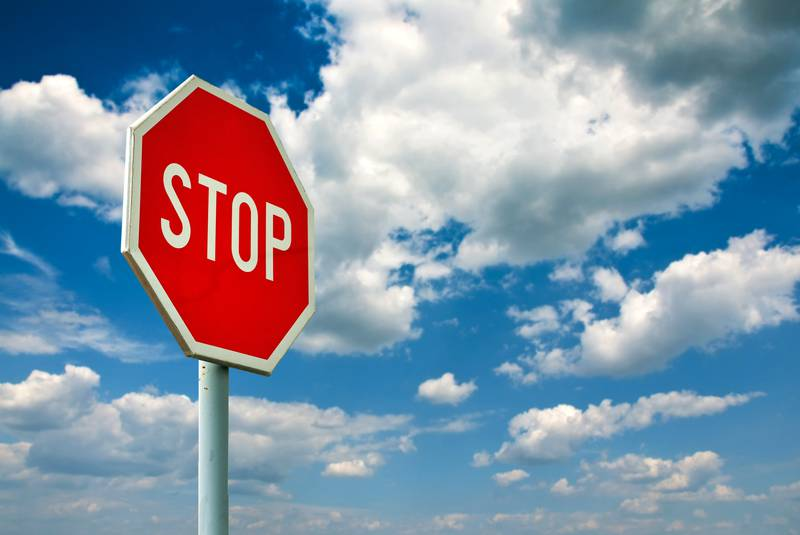stop: (129, 74, 320, 375), (127, 73, 318, 315), (177, 75, 325, 378), (129, 75, 319, 276), (128, 188, 318, 375), (132, 73, 298, 233)
